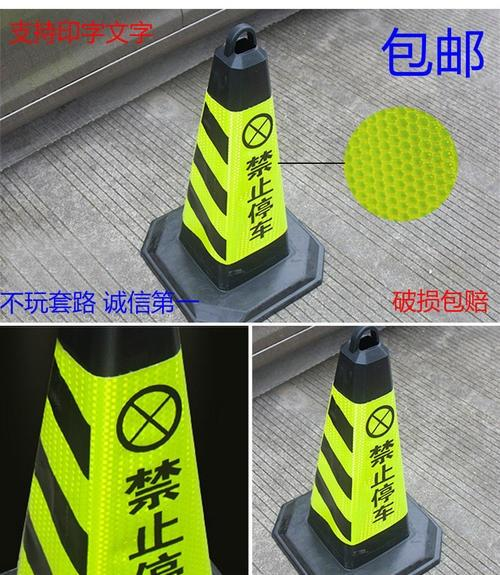cone_barrel: (9, 318, 224, 571), (160, 20, 311, 291), (288, 325, 429, 559)
